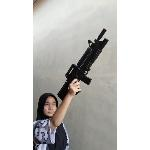Senapan: (53, 26, 111, 102)
